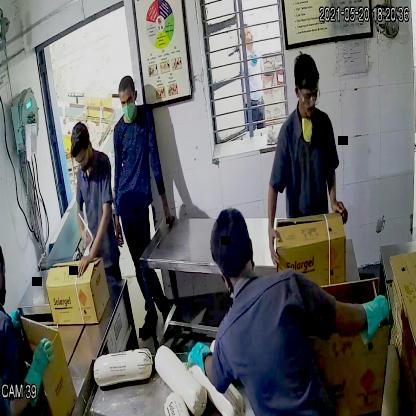goggles: (296, 79, 323, 107)
no_goggles: (119, 92, 136, 108)
